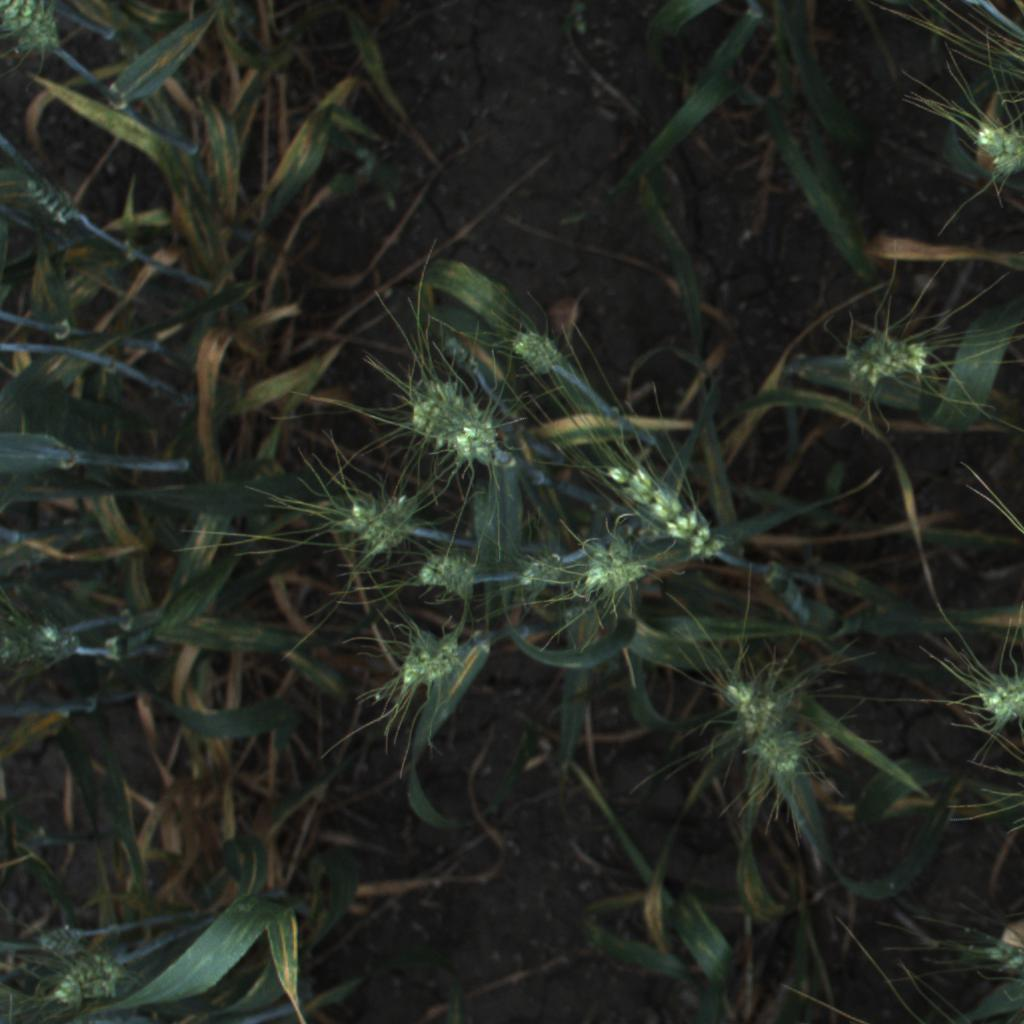0-0: (598, 443, 745, 571), (836, 321, 949, 399), (388, 365, 488, 449), (563, 543, 672, 610), (396, 537, 492, 604), (336, 483, 425, 552), (708, 666, 801, 732), (448, 415, 535, 485), (0, 616, 92, 682), (37, 943, 128, 1009), (736, 724, 824, 791), (503, 312, 576, 388), (960, 107, 1024, 187), (966, 656, 1024, 736), (511, 538, 586, 595), (0, 0, 59, 52), (401, 630, 452, 689)
